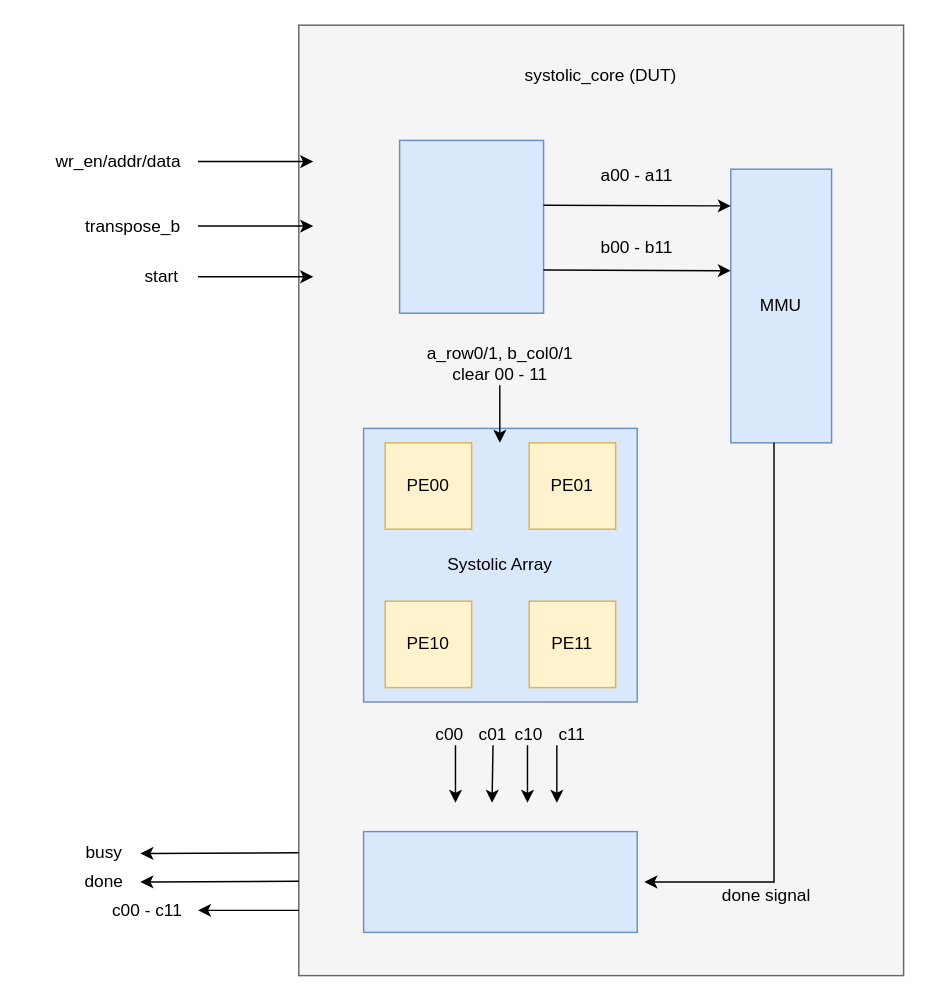
The diagram is 929 pixels wide and 1001 high, and some of its shapes have lost their labels. Here are the shapes that lost their labels. From the top down, the centre of each, then its label:
At point (471, 226): "Memory".
At point (499, 881): "Output Capture".
